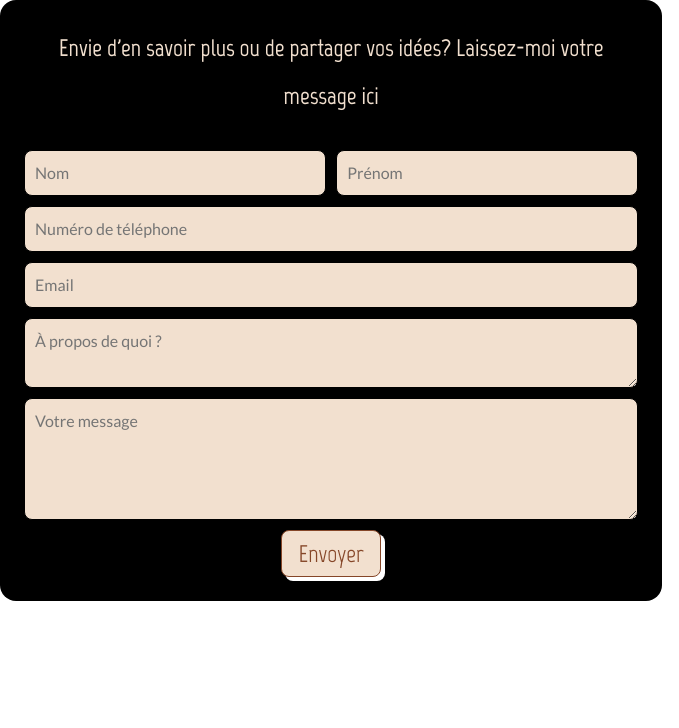
SignupForm › shows validation errors when fields are left empty
// Simuler un clic sur le bouton "Envoyer" sans remplir les champs du formulaire
Click the button "Envoyer": (331, 554) x1=281 y1=530 x2=381 y2=577
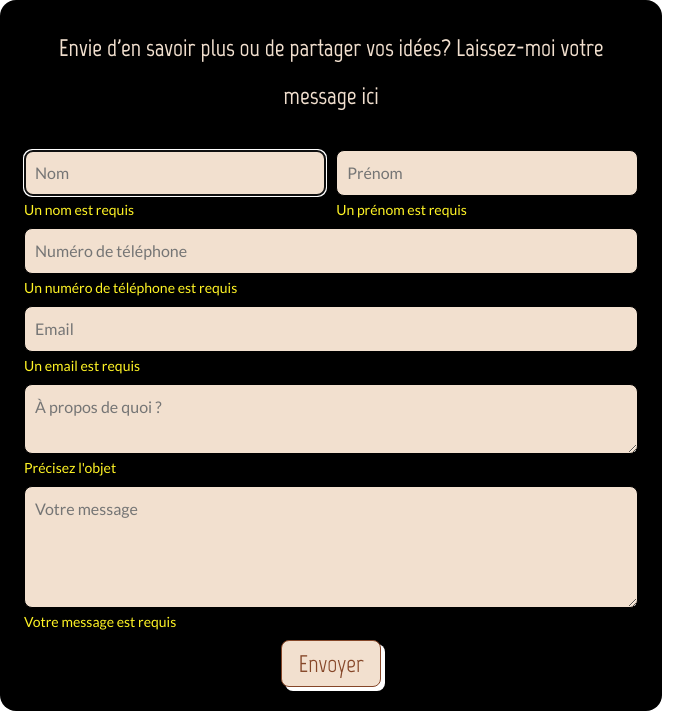
Check: the text "Un nom est requis" is shown, box x1=24 y1=201 x2=134 y2=218
Check: the text "Un prénom est requis" is shown, box x1=336 y1=201 x2=467 y2=218
Check: the text "Un numéro de téléphone est requis" is shown, box x1=24 y1=279 x2=237 y2=296
